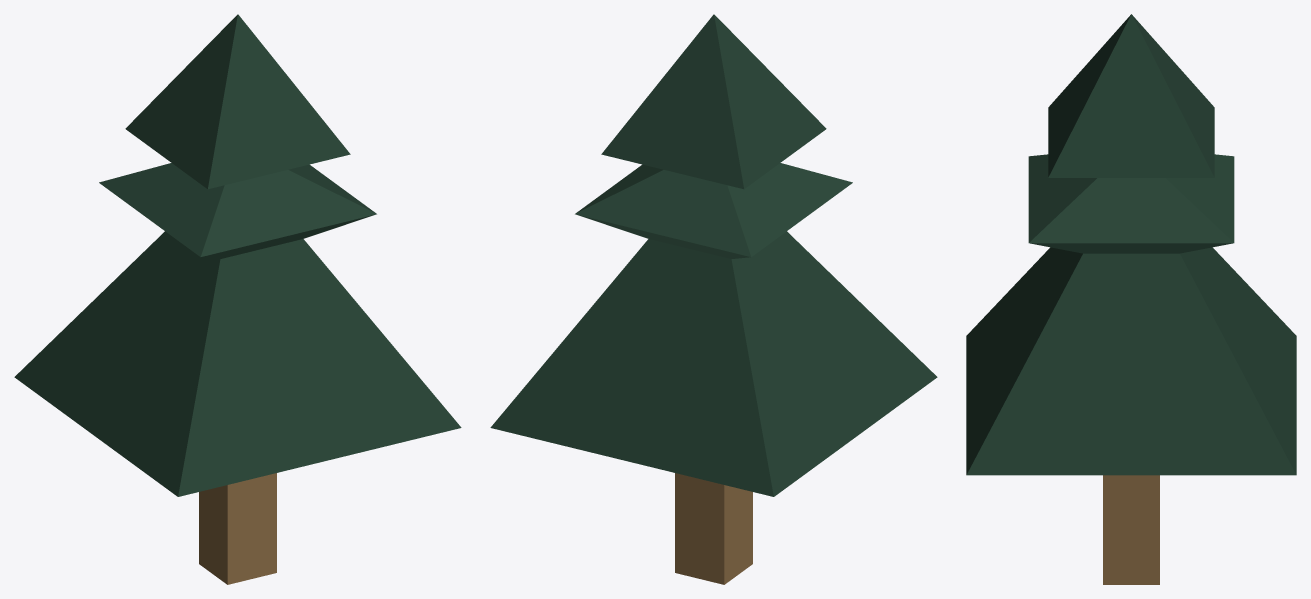
Rendered from Tree.FBX.
The picture shows the model from 3 angles, left to right: view 1: azimuth 30°, elevation 25°; view 2: azimuth 150°, elevation 25°; view 3: azimuth 270°, elevation 25°; orthographic projection.
Parts seen in each view (by area): view 1: Tree; view 2: Tree; view 3: Tree.
Part boxes in pixels (bbox=[...]): Tree: bbox=[14, 14, 461, 584]; Tree: bbox=[490, 14, 937, 584]; Tree: bbox=[966, 14, 1296, 584].
Size of the model in its own units: 113 by 212 by 113.
